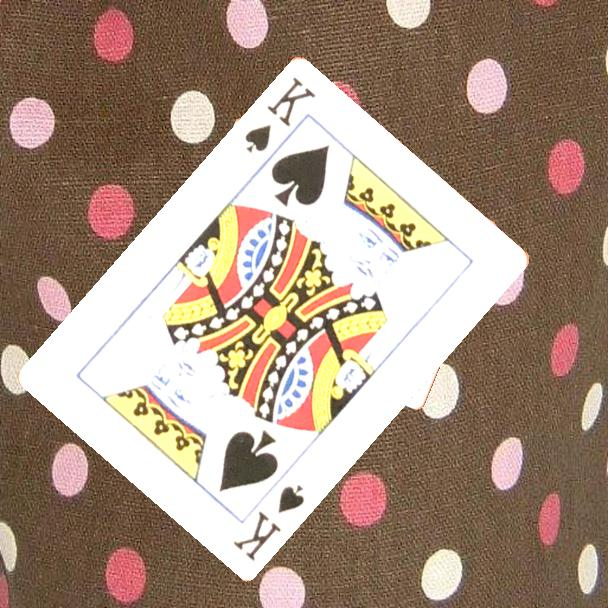s13: (229, 480, 308, 564), (240, 73, 319, 156)
